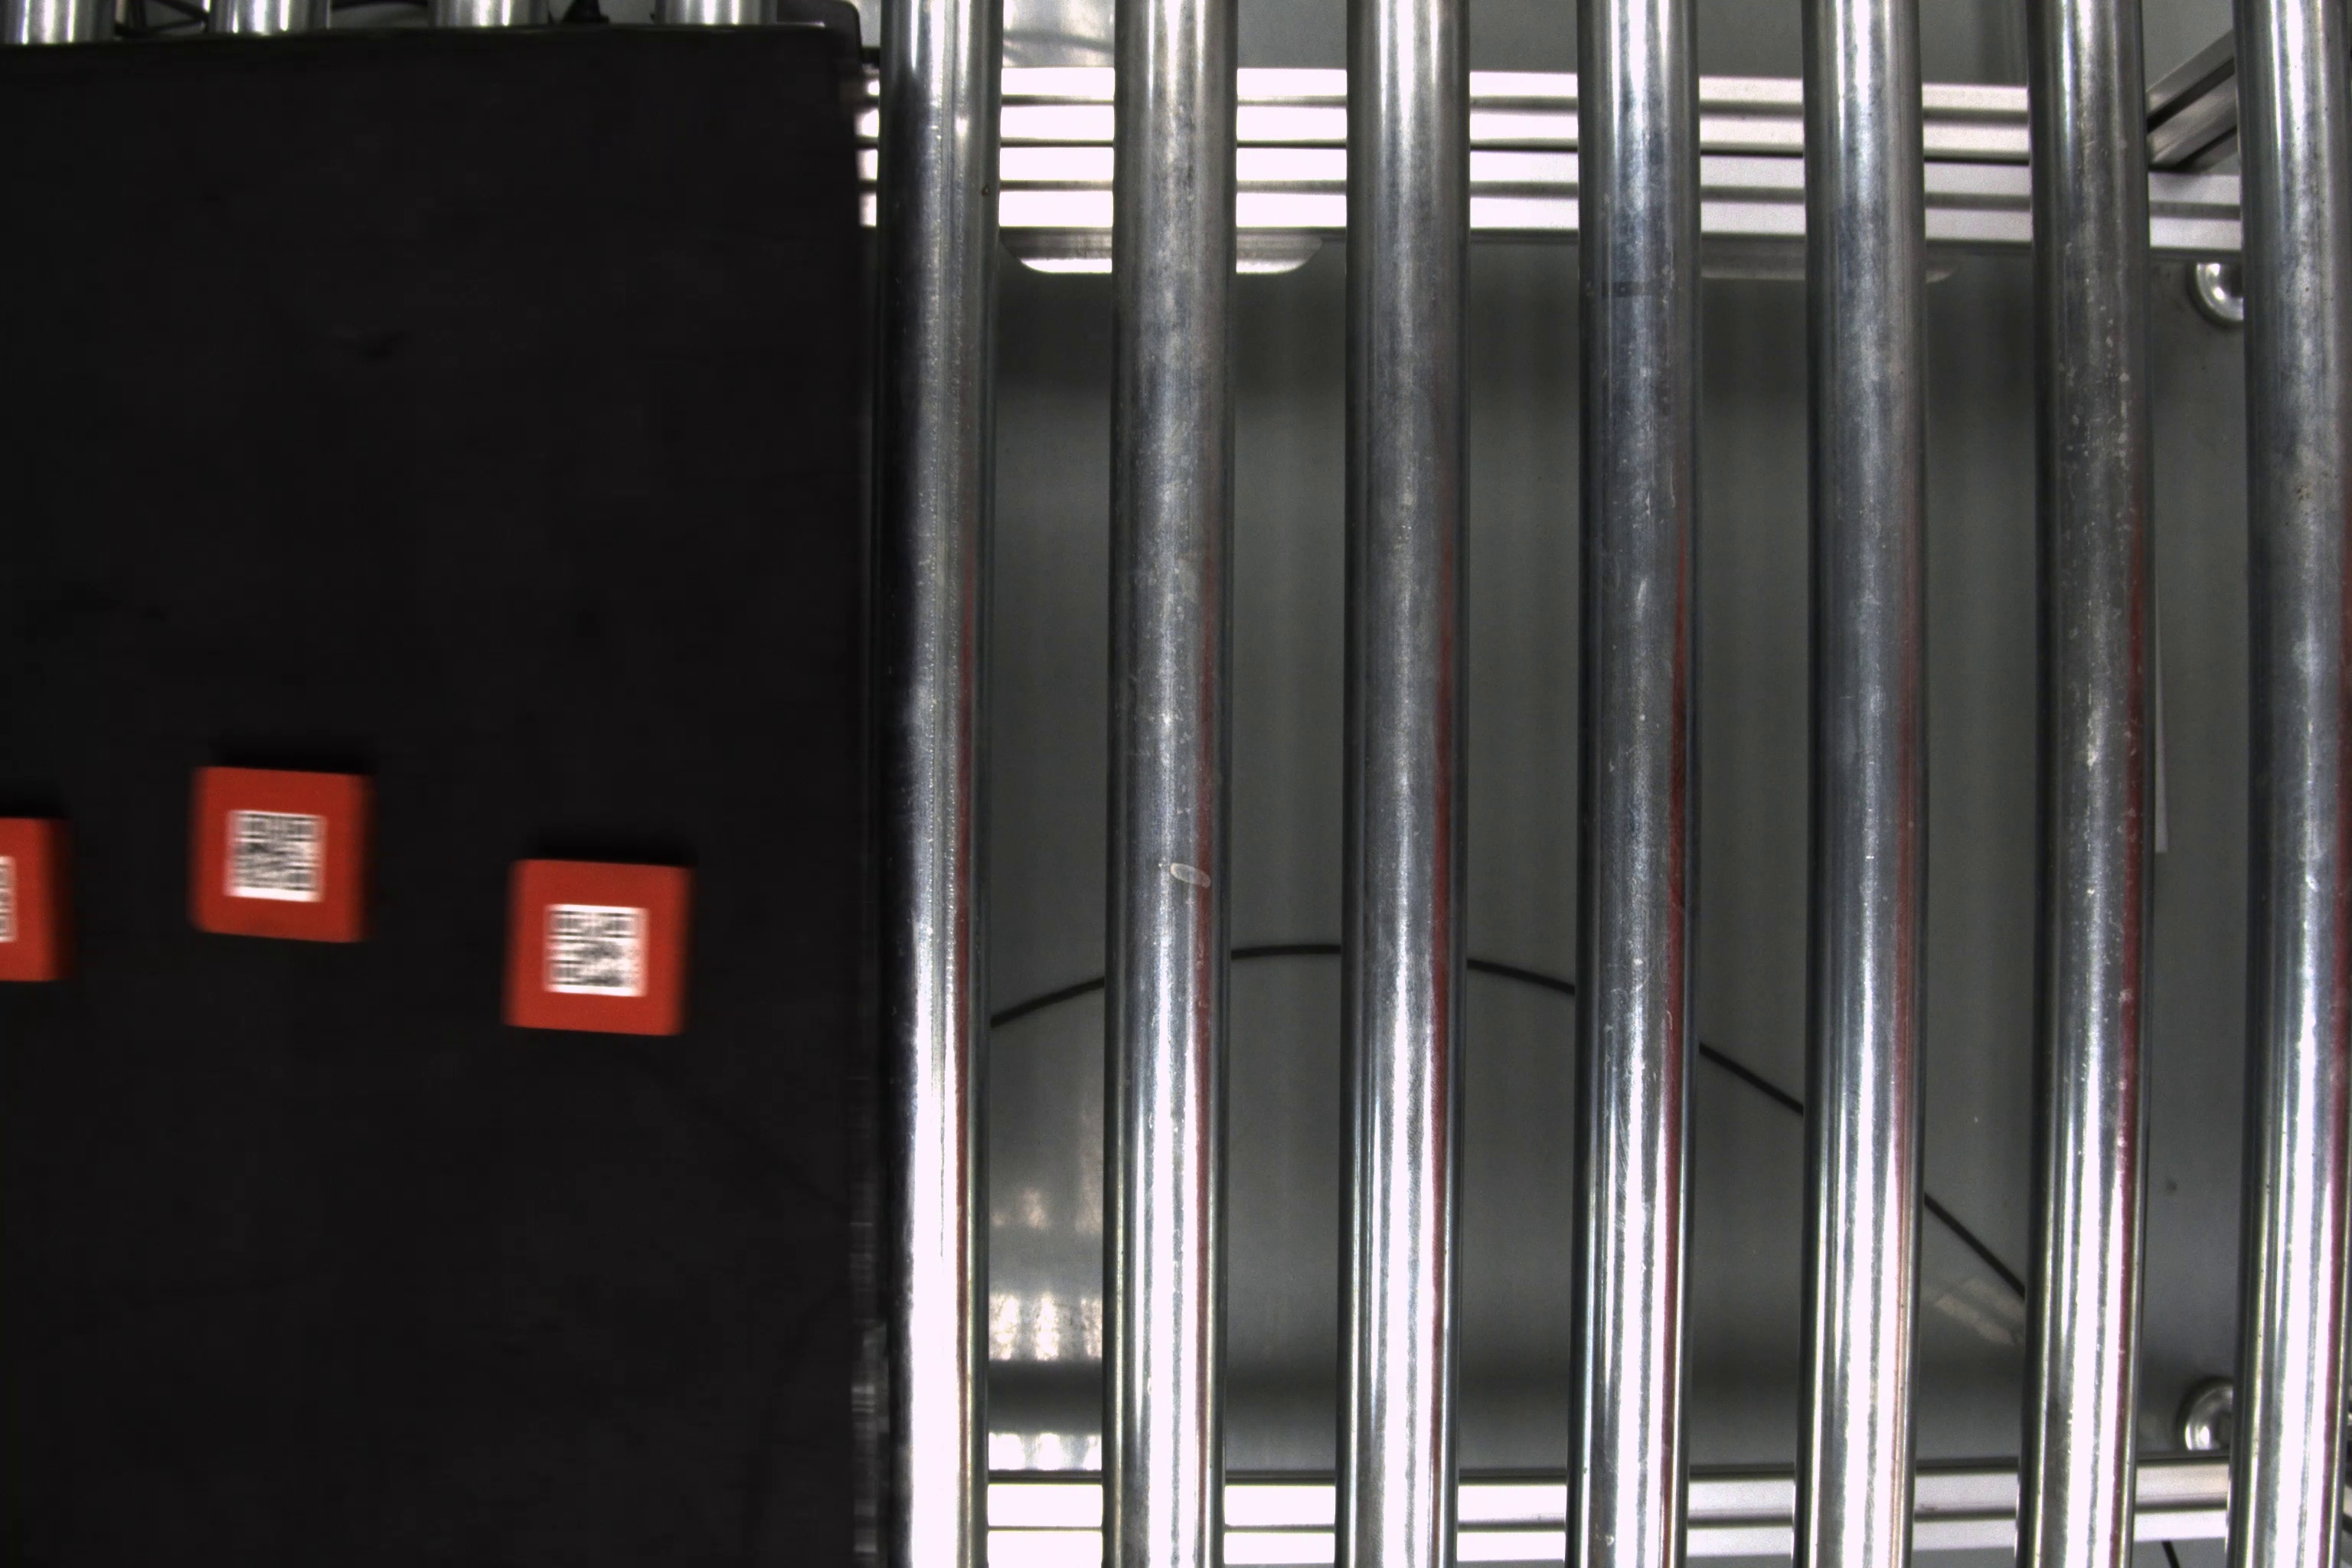wood: (509, 852, 696, 1039), (187, 759, 374, 943), (0, 808, 80, 989)
